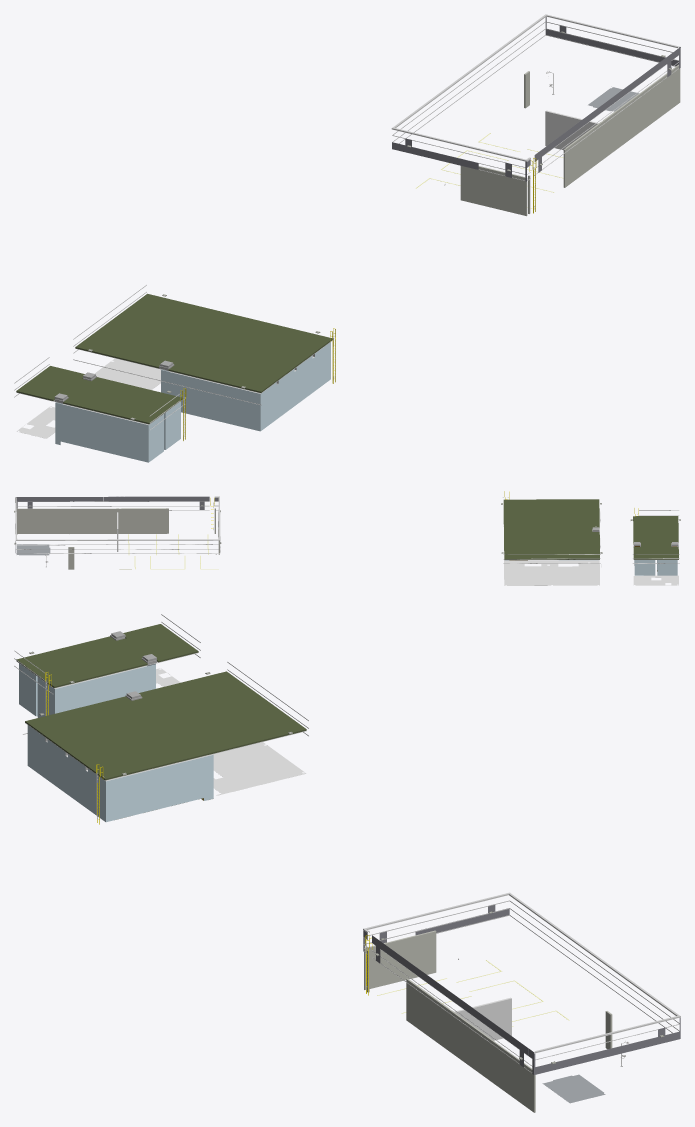
File: pt-109-tanque-hq-p01-v00-p04.glb
The picture shows the model from 3 angles, top to bottom: view 1: azimuth 30°, elevation 25°; view 2: azimuth 150°, elevation 25°; view 3: azimuth 270°, elevation 25°; orthographic projection. The views are drawn at different scales.
Parts seen in each view (by area): view 1: 0vChLYTUz2H8Bu$CjrD_7N, 0vChLYTUz2H8Bu$CjrE1rK, 0Rm6tslZ13aOUtKPOcjPmG, 0Rm6tslZ13aOUtKPOcjOk5, 0Rm6tslZ13aOUtKPOcjOYS, 1gd7Ql3FzCJu2iEYqIye9k, 21XkkWHbnCKw6TspILiGWW, 21XkkWHbnCKw6TspILiGmI, 21XkkWHbnCKw6TspILiGlw, 373Z1YjmH7MxNM5MX_Iz1x, 13kWz4Wm52Y9IAjS1AqzoS, 32PfKxQWL21gi4g18AGmwT; view 2: 0vChLYTUz2H8Bu$CjrD_7N, 373Z1YjmH7MxNM5MX_Iz1x, 0vChLYTUz2H8Bu$CjrE1rK, 21XkkWHbnCKw6TspILiGWW, 21XkkWHbnCKw6TspILiGlw, 21XkkWHbnCKw6TspILiGmI, 32PfKxQWL21gi4g18AGmwT, 11jRIm7sn61e6S0ApPk$bB, 3K3SWQXSrBtApH_gw3rqvy, 0Rm6tslZ13aOUtKPOcjPXM, 0Rm6tslZ13aOUtKPOcjPfO, 3obg9pivX2Qwj1NM2HHh98 (+4 smaller); view 3: 0vChLYTUz2H8Bu$CjrD_7N, 0vChLYTUz2H8Bu$CjrE1rK, 0Rm6tslZ13aOUtKPOcjOZr, 0Rm6tslZ13aOUtKPOcjOYS, 373Z1YjmH7MxNM5MX_Iz1x, 0Rm6tslZ13aOUtKPOcjPaQ, 1gd7Ql3FzCJu2iEYqIye9k, 21XkkWHbnCKw6TspILiGWW, 21XkkWHbnCKw6TspILiGlw, 21XkkWHbnCKw6TspILiGmI, 13kWz4Wm52Y9IAjS1AqzoS, 3K3SWQXSrBtApH_gw3rqvy.
Part boxes in pixels (box(x1,y1,x2,y2)): 0vChLYTUz2H8Bu$CjrD_7N: box(75, 293, 333, 392); 0vChLYTUz2H8Bu$CjrE1rK: box(16, 366, 183, 423); 0Rm6tslZ13aOUtKPOcjPmG: box(55, 402, 148, 462); 0Rm6tslZ13aOUtKPOcjOk5: box(161, 370, 260, 431); 0Rm6tslZ13aOUtKPOcjOYS: box(260, 342, 330, 430); 1gd7Ql3FzCJu2iEYqIye9k: box(460, 166, 522, 214); 21XkkWHbnCKw6TspILiGWW: box(639, 64, 680, 131); 21XkkWHbnCKw6TspILiGmI: box(565, 122, 602, 185); 21XkkWHbnCKw6TspILiGlw: box(603, 94, 639, 157); 373Z1YjmH7MxNM5MX_Iz1x: box(94, 358, 161, 389); 13kWz4Wm52Y9IAjS1AqzoS: box(545, 110, 598, 150); 32PfKxQWL21gi4g18AGmwT: box(16, 406, 55, 438); 0vChLYTUz2H8Bu$CjrD_7N: box(503, 499, 599, 559); 373Z1YjmH7MxNM5MX_Iz1x: box(504, 560, 599, 585); 0vChLYTUz2H8Bu$CjrE1rK: box(633, 516, 678, 559); 21XkkWHbnCKw6TspILiGWW: box(15, 508, 68, 534); 21XkkWHbnCKw6TspILiGlw: box(69, 508, 116, 533); 21XkkWHbnCKw6TspILiGmI: box(119, 508, 165, 533); 32PfKxQWL21gi4g18AGmwT: box(633, 575, 678, 585); 11jRIm7sn61e6S0ApPk$bB: box(15, 539, 220, 540); 3K3SWQXSrBtApH_gw3rqvy: box(16, 544, 50, 555); 0Rm6tslZ13aOUtKPOcjPXM: box(634, 560, 655, 575); 0Rm6tslZ13aOUtKPOcjPfO: box(657, 560, 677, 575); 3obg9pivX2Qwj1NM2HHh98: box(16, 544, 219, 545); 0vChLYTUz2H8Bu$CjrD_7N: box(25, 671, 306, 780); 0vChLYTUz2H8Bu$CjrE1rK: box(16, 624, 198, 687); 0Rm6tslZ13aOUtKPOcjOZr: box(106, 755, 213, 822); 0Rm6tslZ13aOUtKPOcjOYS: box(27, 725, 105, 821); 373Z1YjmH7MxNM5MX_Iz1x: box(213, 742, 306, 795); 0Rm6tslZ13aOUtKPOcjPaQ: box(55, 664, 155, 713); 1gd7Ql3FzCJu2iEYqIye9k: box(370, 930, 436, 988); 21XkkWHbnCKw6TspILiGWW: box(489, 1039, 535, 1112); 21XkkWHbnCKw6TspILiGlw: box(450, 1010, 490, 1080); 21XkkWHbnCKw6TspILiGmI: box(408, 980, 449, 1049); 13kWz4Wm52Y9IAjS1AqzoS: box(454, 997, 511, 1040); 3K3SWQXSrBtApH_gw3rqvy: box(542, 1074, 605, 1103).
Size of the model in its own units: 94.62 by 6.41 by 59.77.
